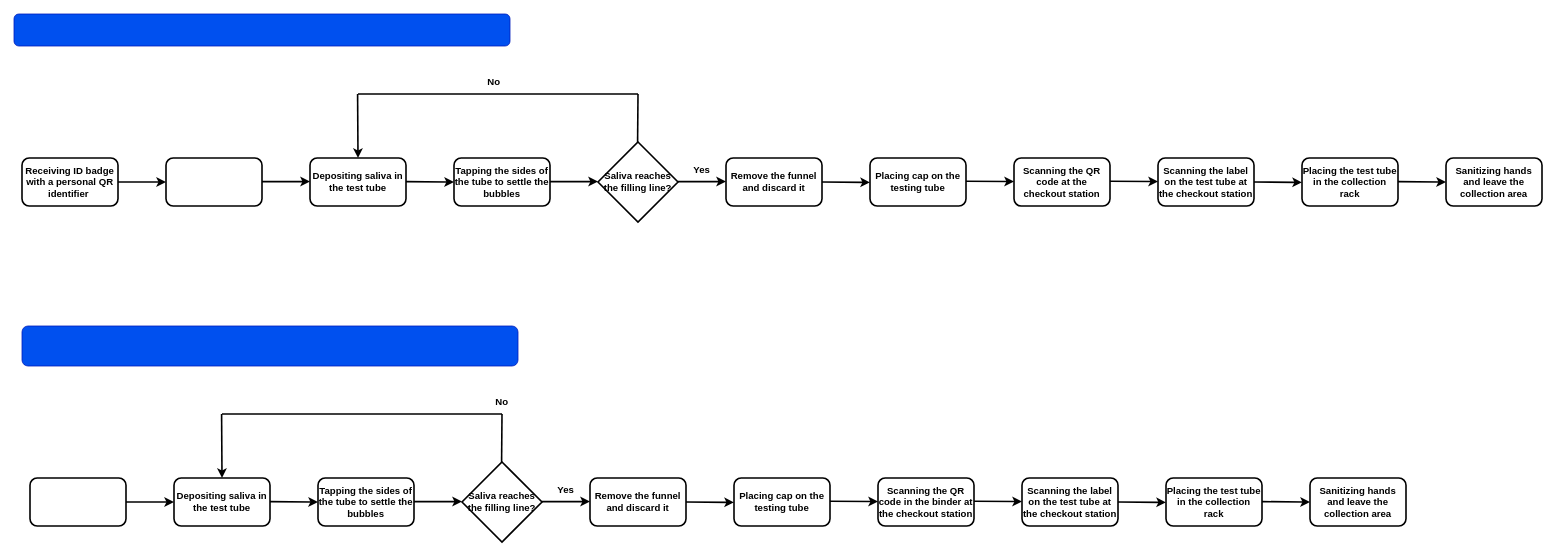
The diagram is 1557 pixels wide and 557 high, and some of its shapes have lost their labels. Here are the shapes that lost their labels. From the top down, the centre of each, then its label:
the point at 261,29: Test collection in Common Areas
the point at 213,181: Sanitizing hands and receiving the test tube and funnel
the point at 269,345: Collection model where school personnel bring testing supplies in each classroom
the point at 77,501: Receiving the testing tube and funnel from a staff
